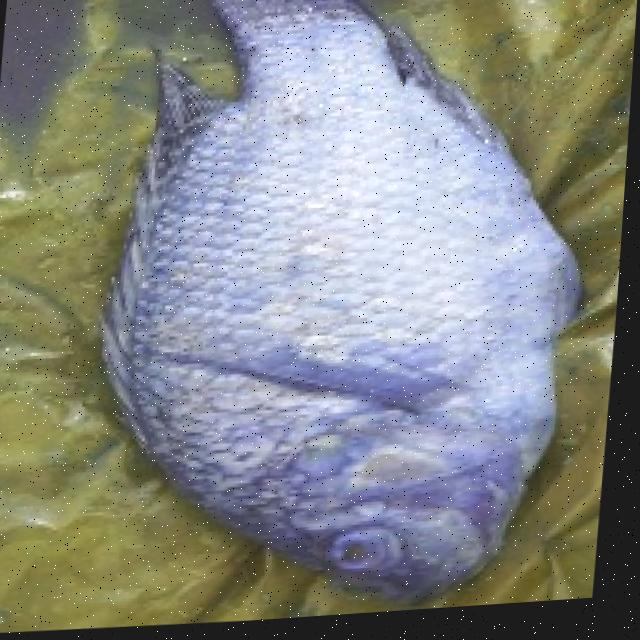Non-Fresh: (214, 72, 505, 469), (323, 492, 437, 595)
